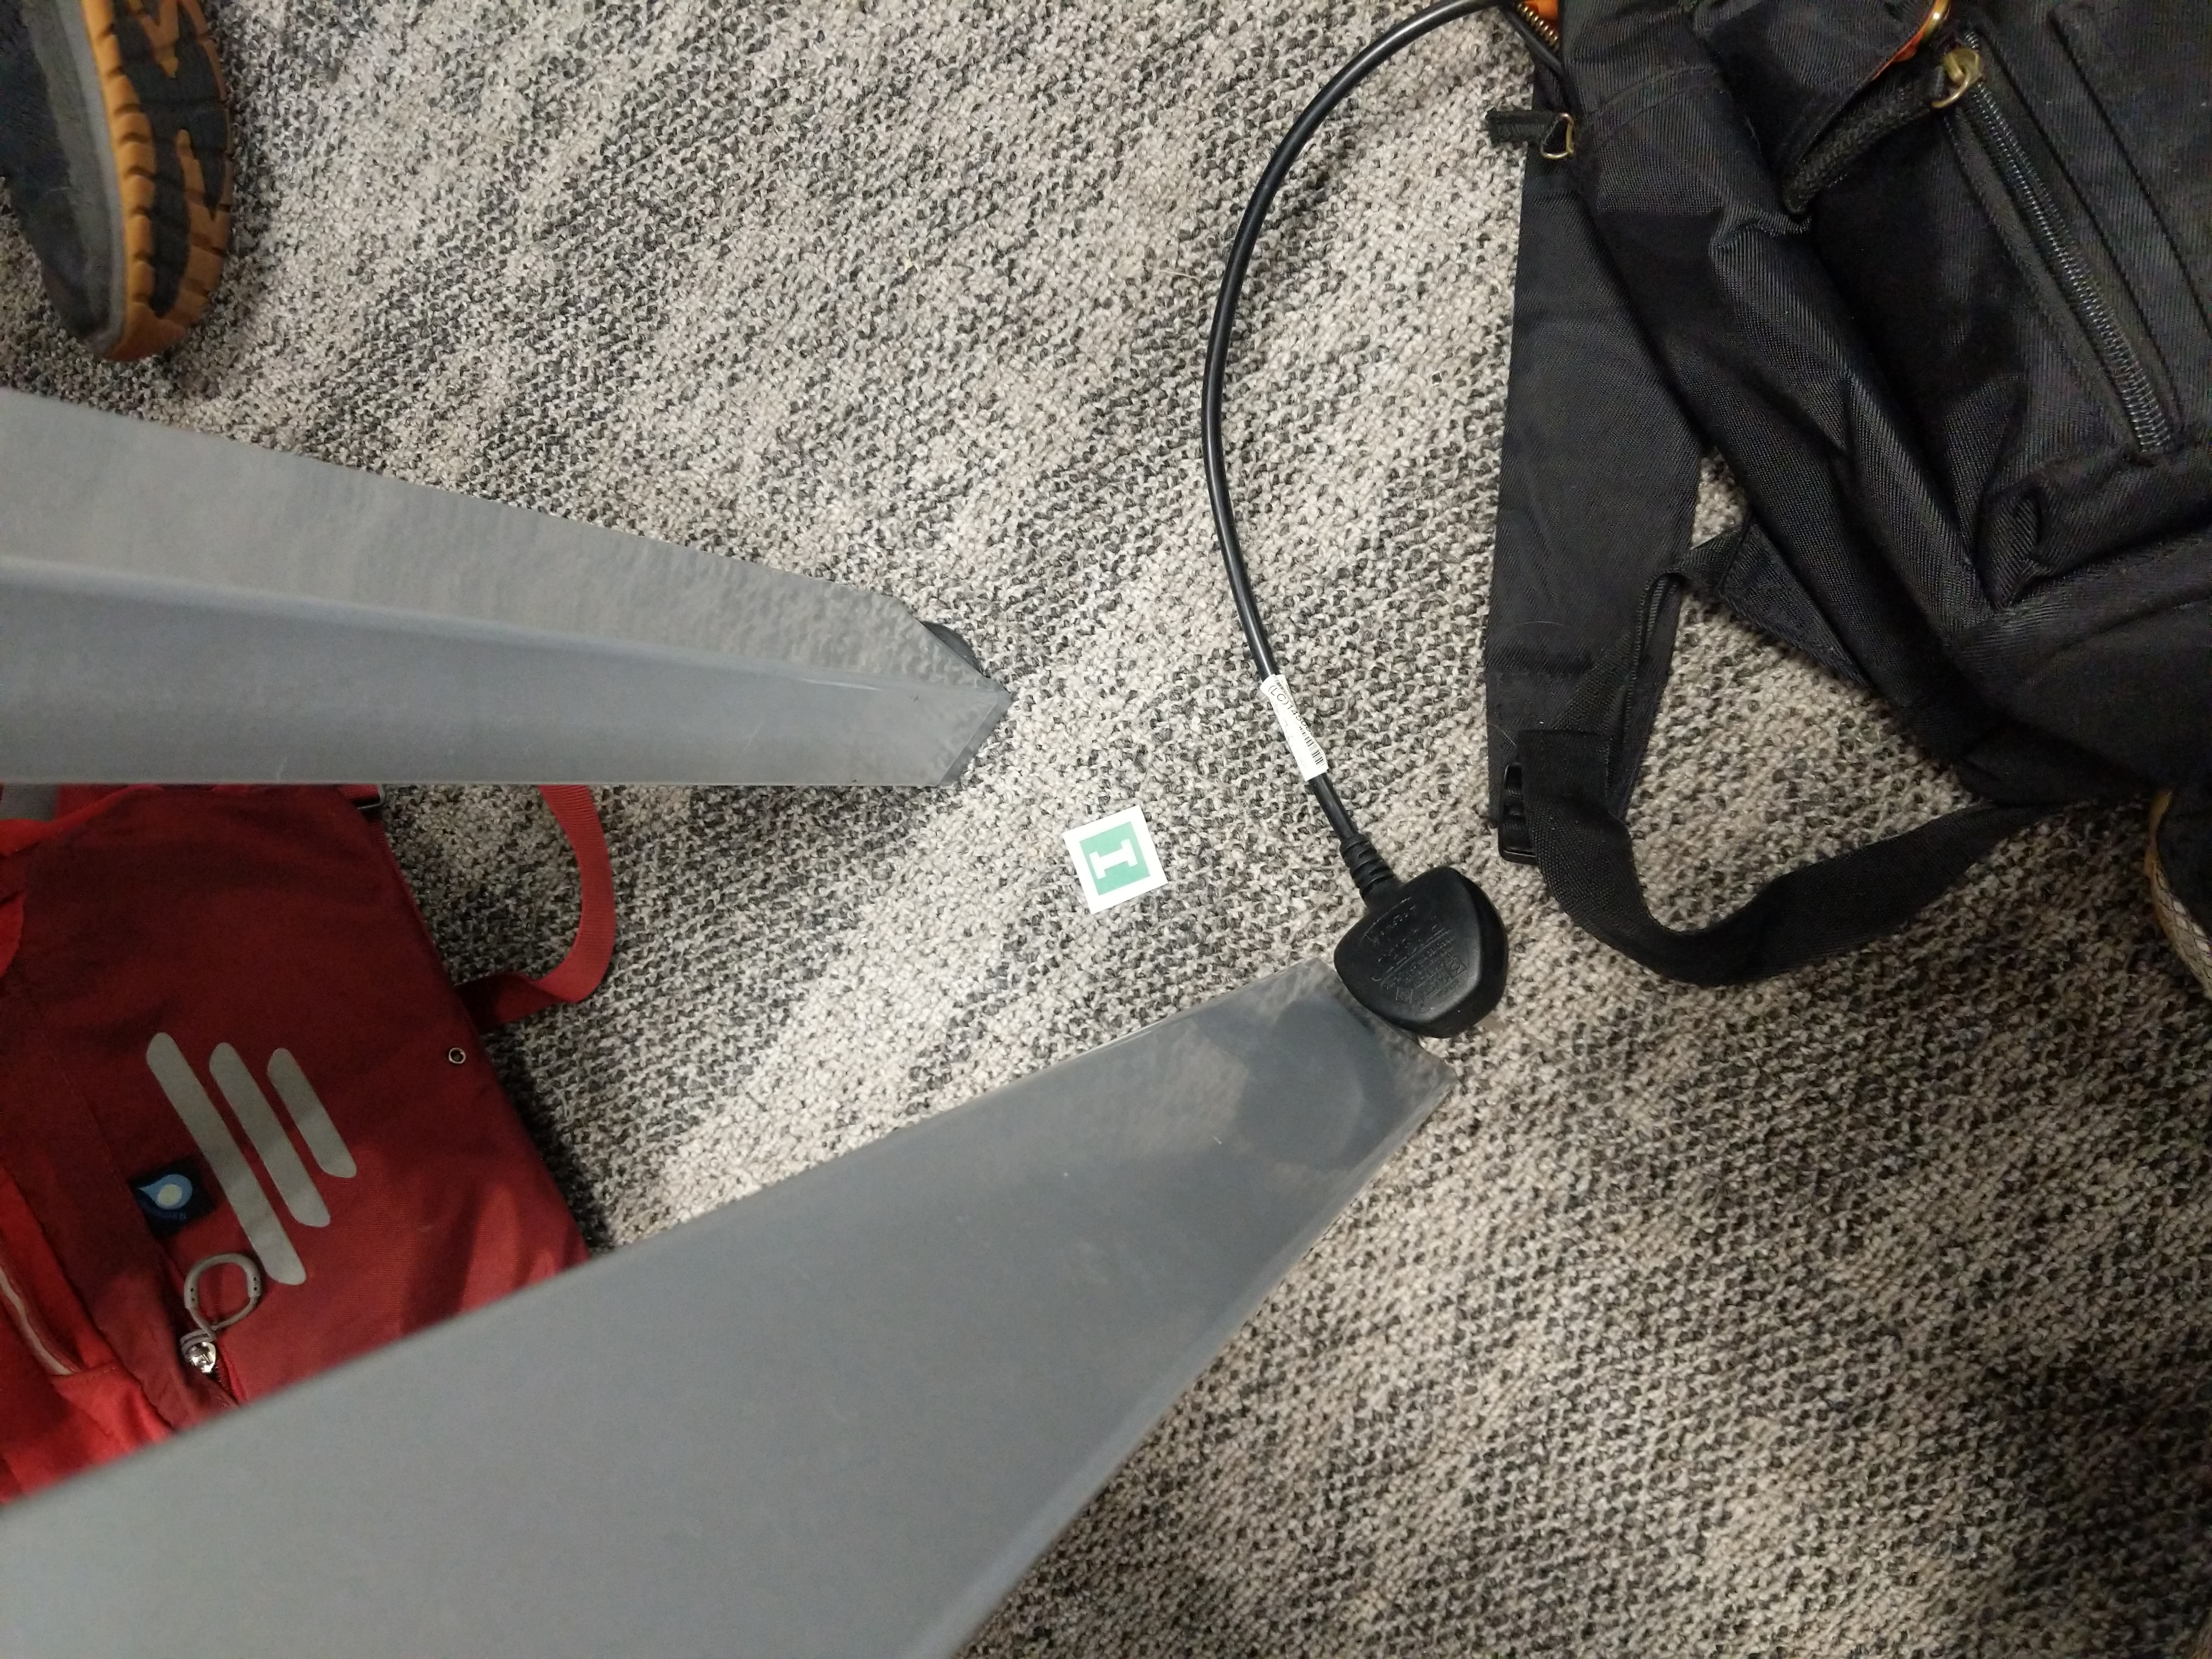marker: (1062, 798, 1176, 908)
